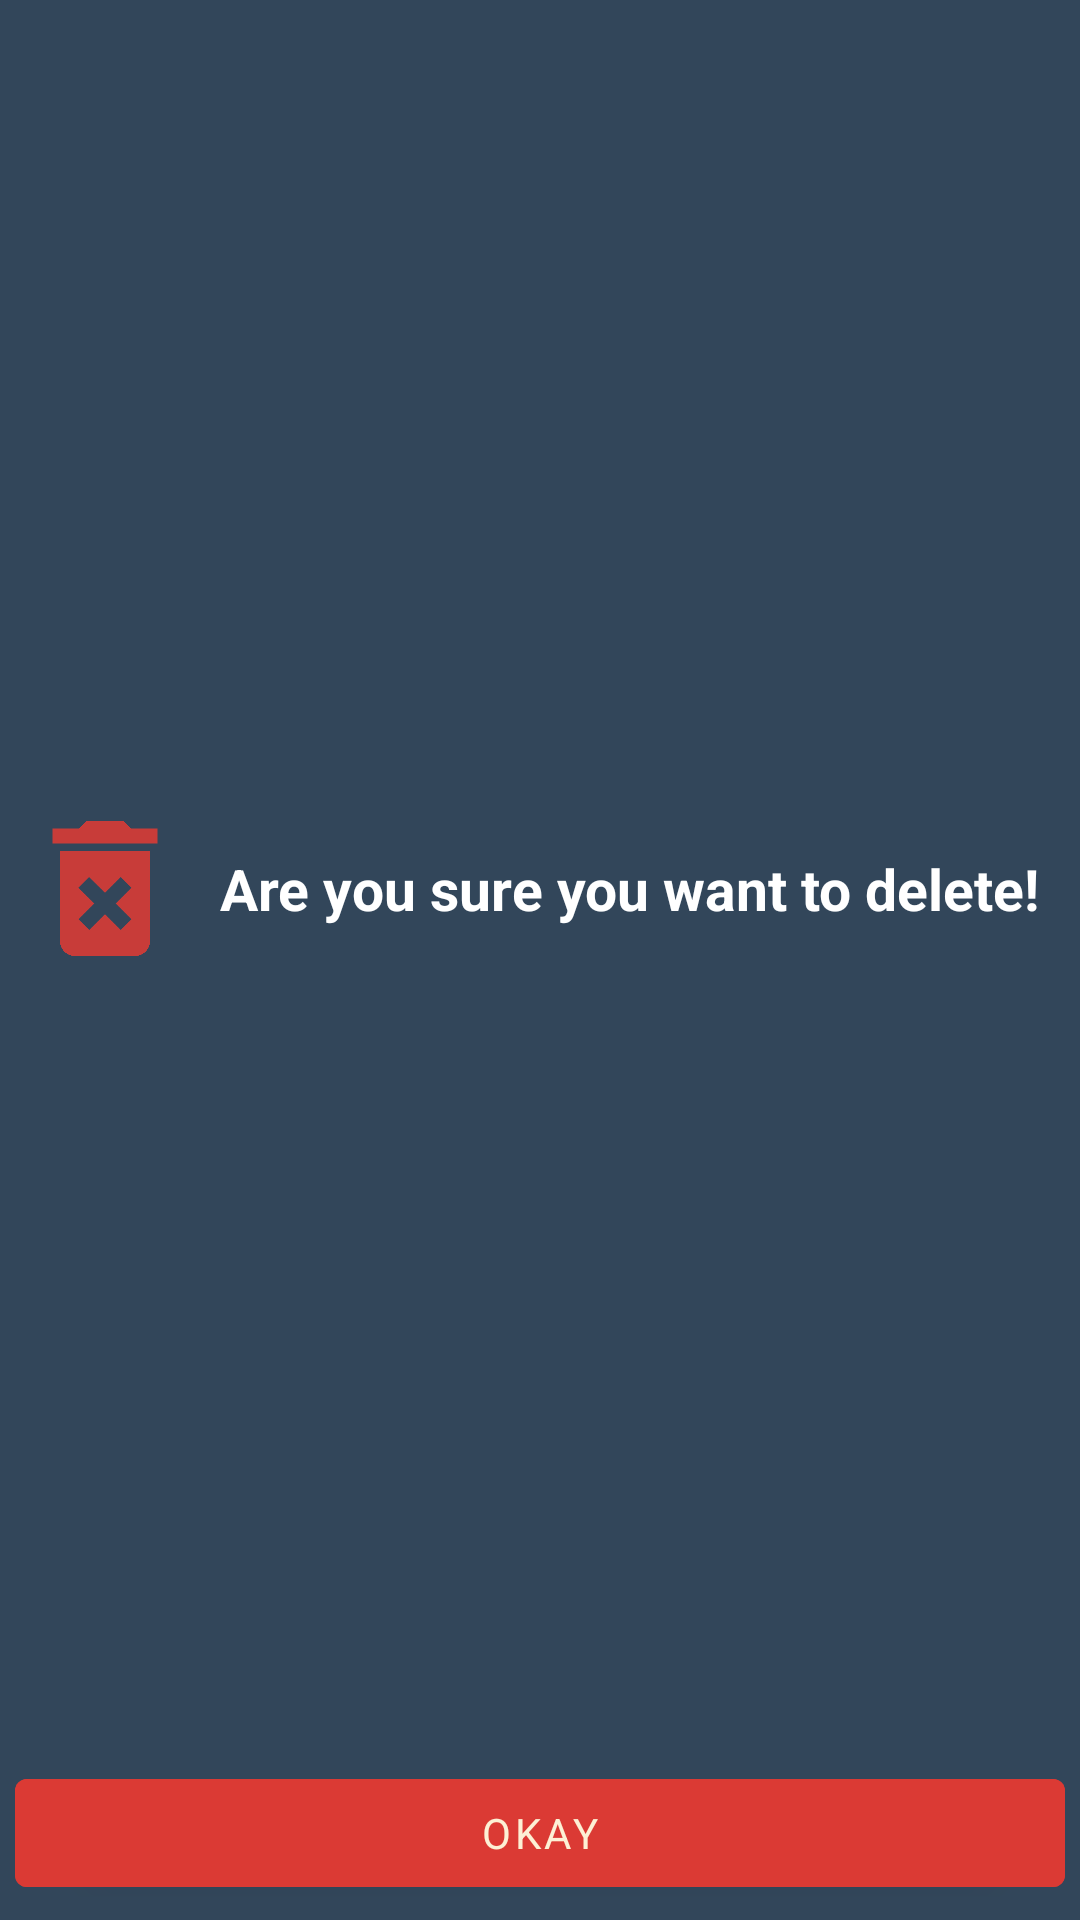

Where icons sit on this 1080*1920 app screen, as (x1, y1, x2, y2):
delete forever: (52, 821, 158, 956)
